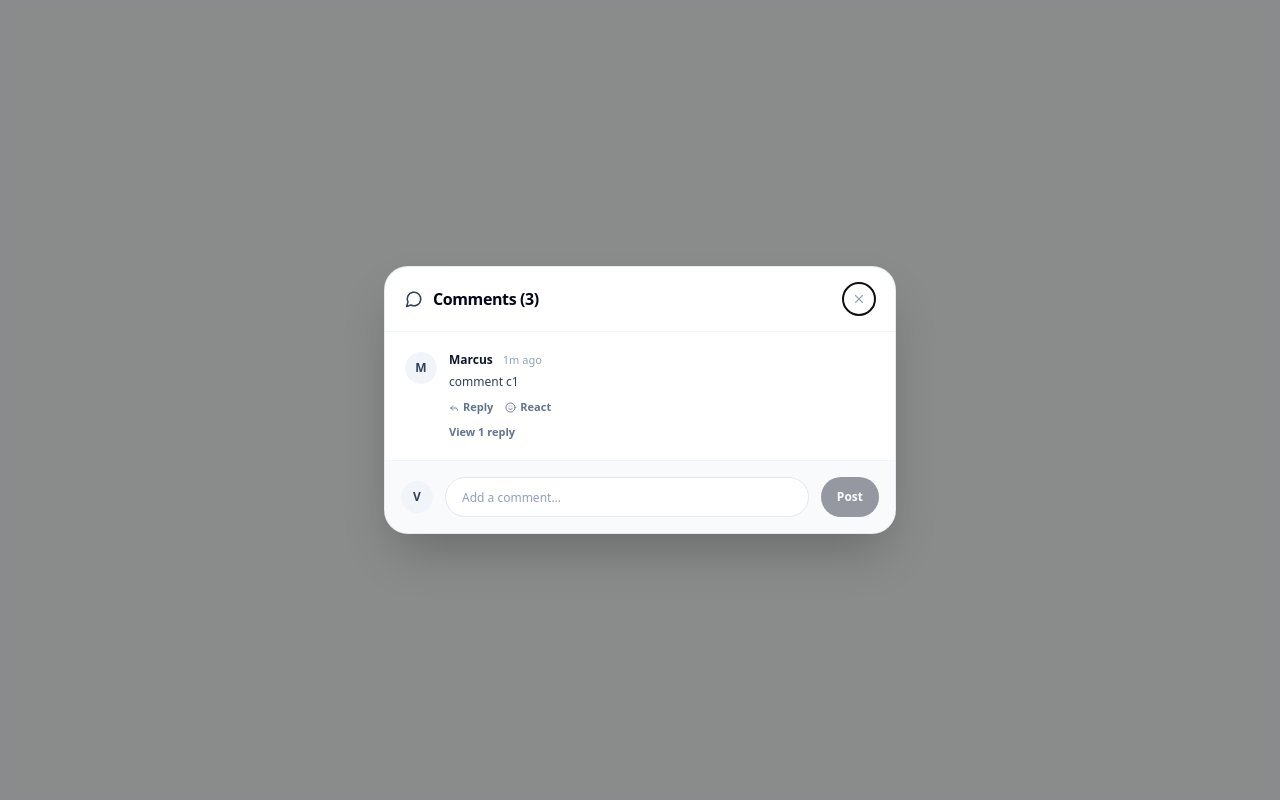
Scenario: PostCommentsModal › replying to a reply attaches to its top-level comment
The image size is (1280, 800).
Click the button "View 1 reply" at (482, 432), box [449,424,515,440]
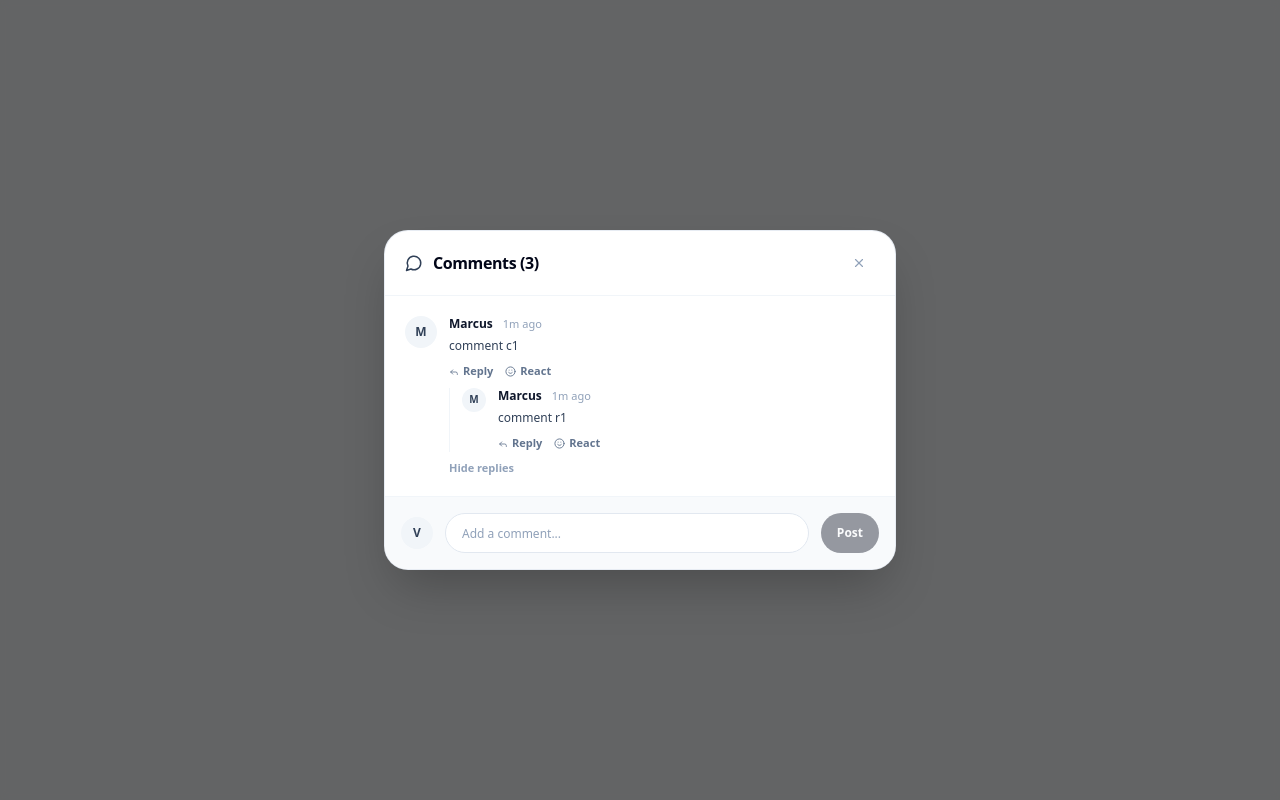
Expected: the text "comment r1" is shown, [498,409,567,426]
Click the button "Reply" below "comment r1" at (520, 444), box [498,435,542,452]
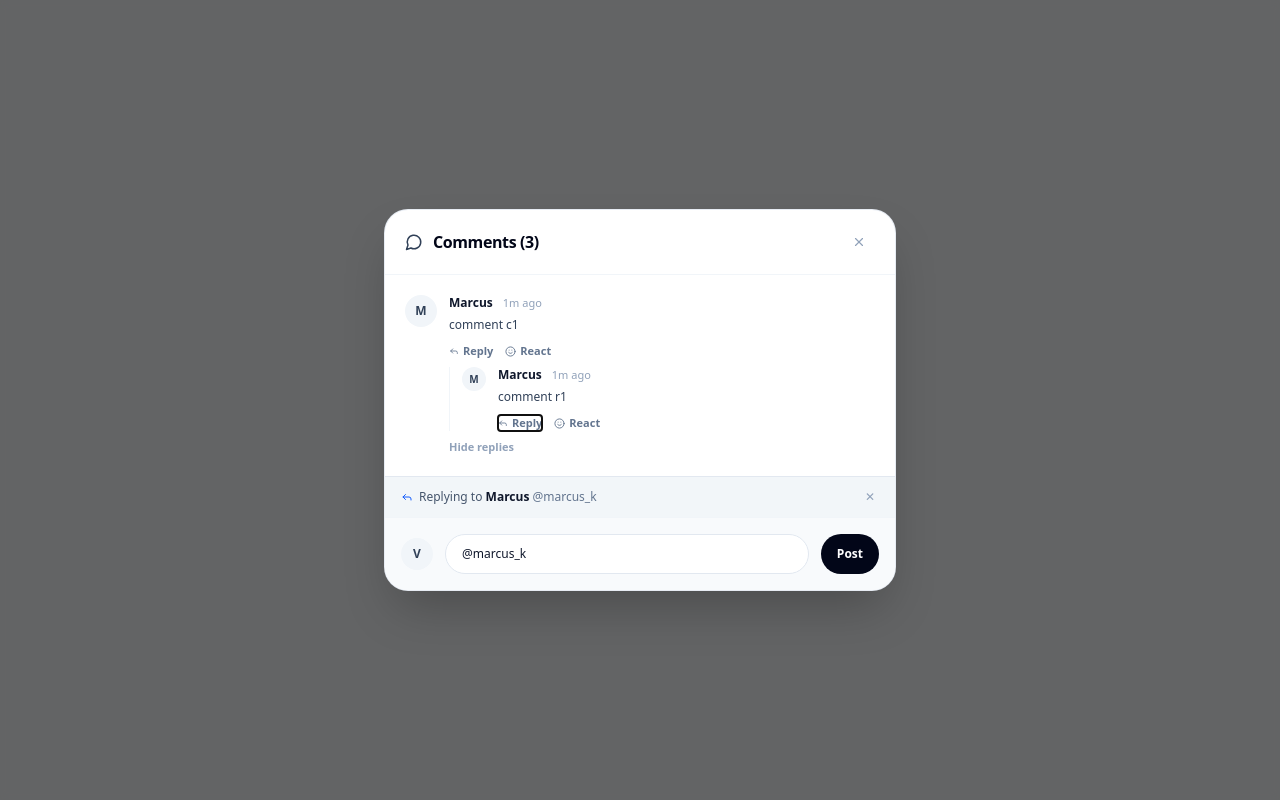
Replace the text in the field named "Add a comment" with "@marcus_k my reply" at (627, 554), box [445,534,809,574]
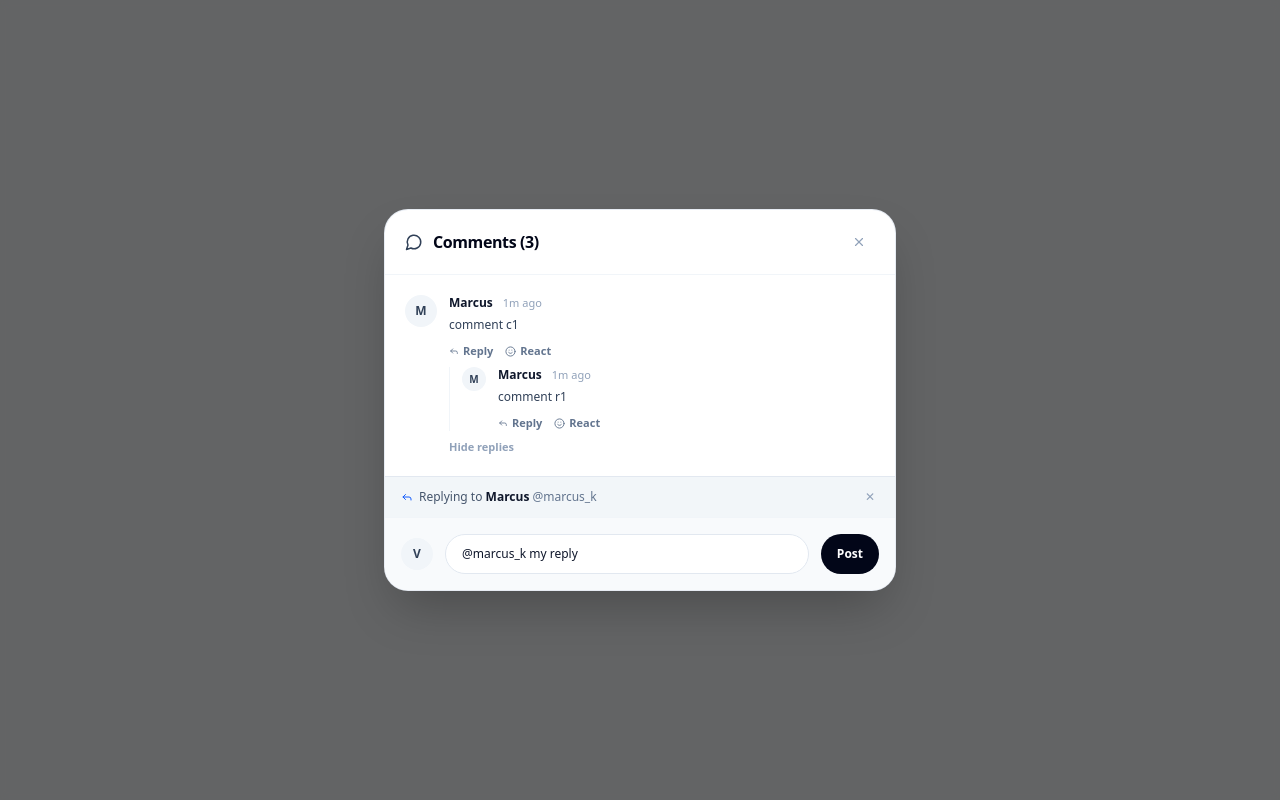
Click the button "Post" at (850, 554), box [821,534,879,574]
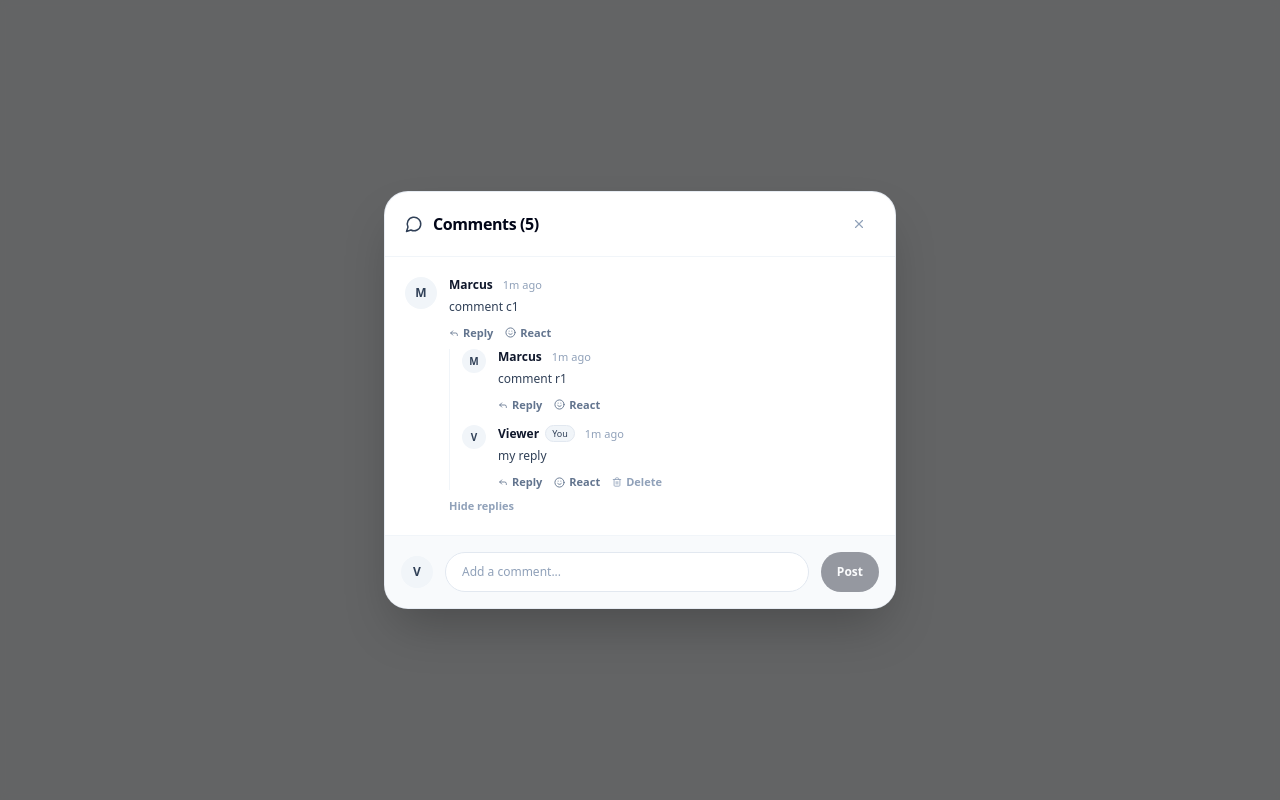
Expected: the text "my reply" is shown, [498,447,546,464]
